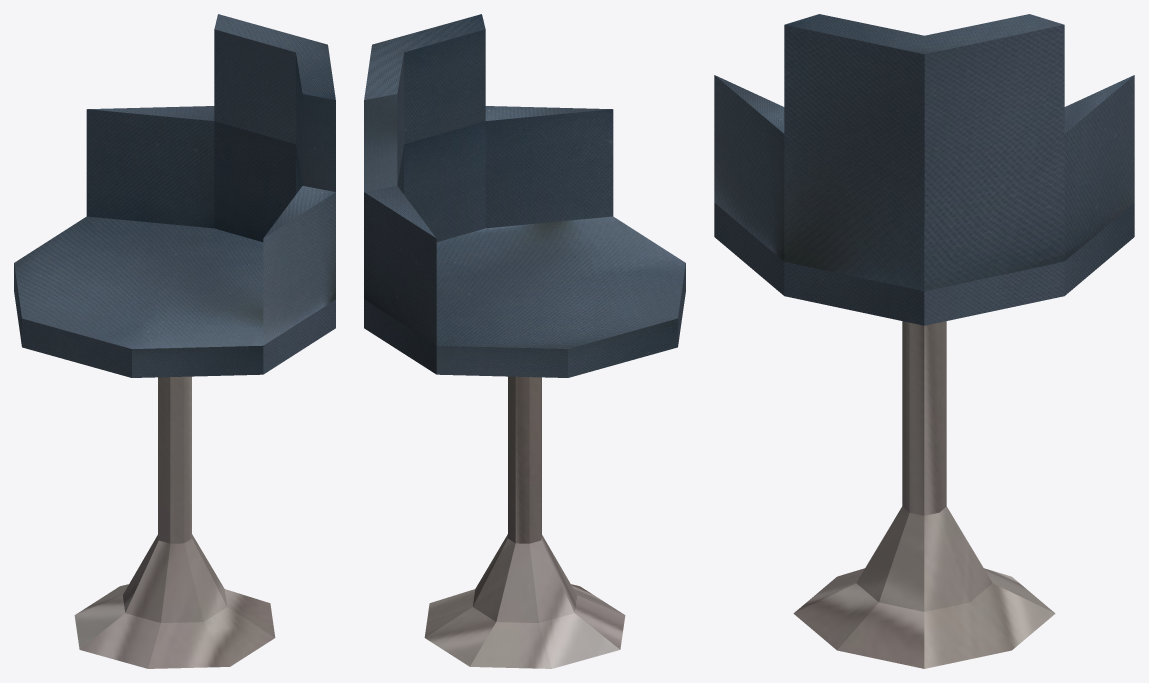
The model's file is Sandalye.fbx.
The picture shows the model from 3 angles, left to right: view 1: azimuth 30°, elevation 25°; view 2: azimuth 150°, elevation 25°; view 3: azimuth 270°, elevation 25°; orthographic projection. The views are drawn at different scales.
Visible parts, largest first — view 1: Cube; view 2: Cube; view 3: Cube.
Part boxes in pixels (bbox=[...]): Cube: bbox=[14, 14, 335, 668]; Cube: bbox=[364, 14, 685, 668]; Cube: bbox=[714, 14, 1134, 668].
Size of the model in its own units: 252 by 429 by 252.
